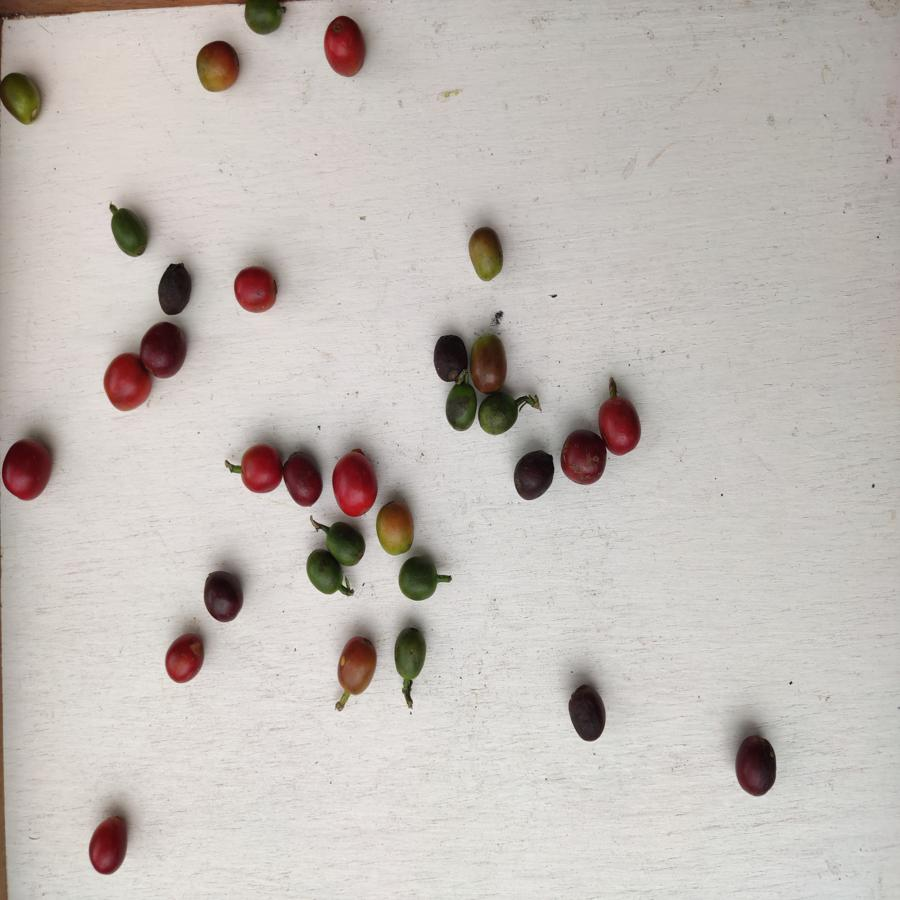Inmaduro: (108, 207, 152, 259), (392, 626, 429, 685), (398, 555, 441, 604), (304, 548, 346, 598), (322, 522, 366, 566), (445, 382, 478, 437), (477, 394, 518, 436), (241, 2, 285, 35)
Maduro: (328, 450, 380, 521), (320, 14, 373, 82), (2, 438, 54, 502), (103, 354, 154, 414), (85, 815, 128, 877), (600, 397, 644, 455), (232, 266, 281, 315), (238, 444, 283, 497), (162, 632, 205, 686)
Pinton: (465, 332, 513, 393), (1, 70, 48, 128), (193, 40, 242, 94), (375, 497, 417, 560), (465, 224, 508, 285), (337, 636, 379, 698)
Sobremaduro: (730, 732, 779, 798), (559, 428, 607, 488), (140, 320, 188, 379), (201, 567, 247, 625), (567, 685, 610, 744), (153, 264, 199, 318), (282, 451, 322, 510), (512, 450, 555, 504), (430, 334, 468, 385)
